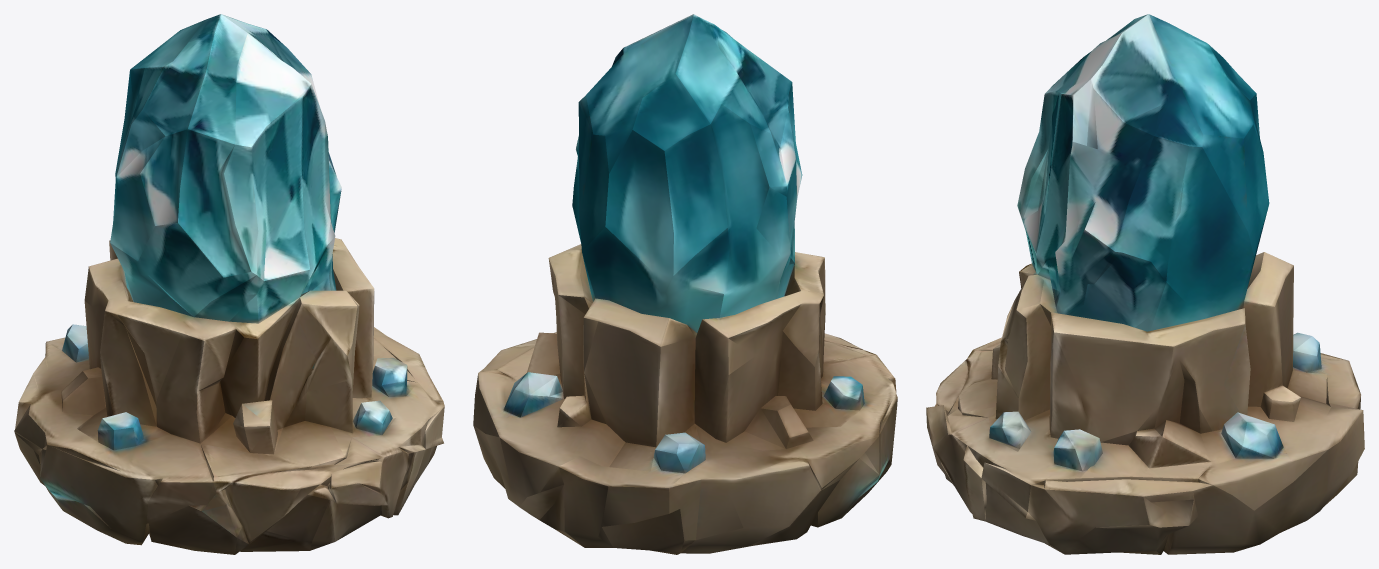
File: m2CrystalSwitch.glb
The picture shows the model from 3 angles, left to right: view 1: azimuth 30°, elevation 25°; view 2: azimuth 150°, elevation 25°; view 3: azimuth 270°, elevation 25°; orthographic projection.
Visible parts, largest first — view 1: model; view 2: model; view 3: model.
Part boxes in pixels (box(x1,y1,x2,y2)): model: box(14, 14, 444, 554); model: box(473, 14, 897, 554); model: box(926, 14, 1364, 554).
Size of the model in its own units: 1.62 by 1.9 by 1.61.
1 material, 1 textured.
